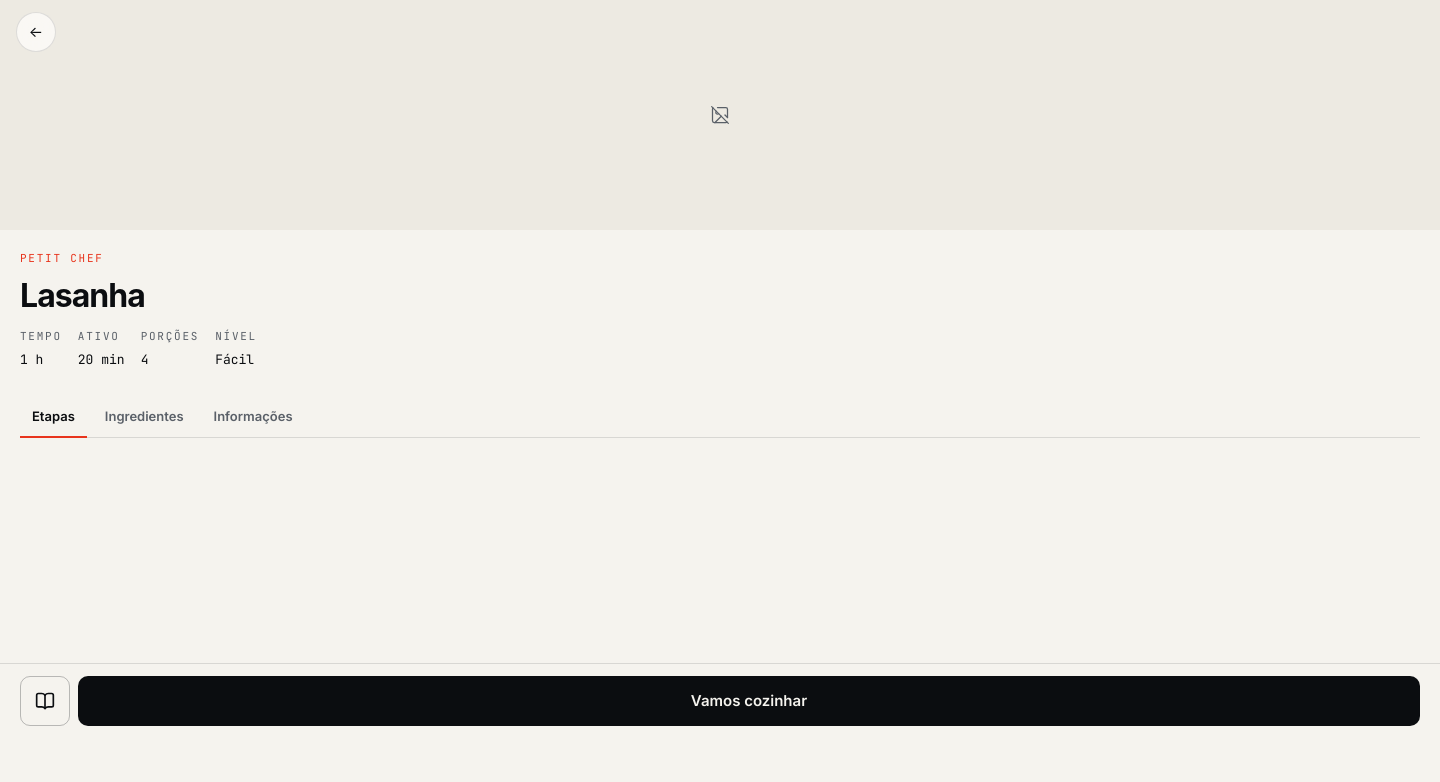
Test case: RecipeScreen — porções › rescales mass and volume lines when the serving count changes
Click the tab "Ingredientes".
click(144, 417)  # box [93, 397, 196, 438]
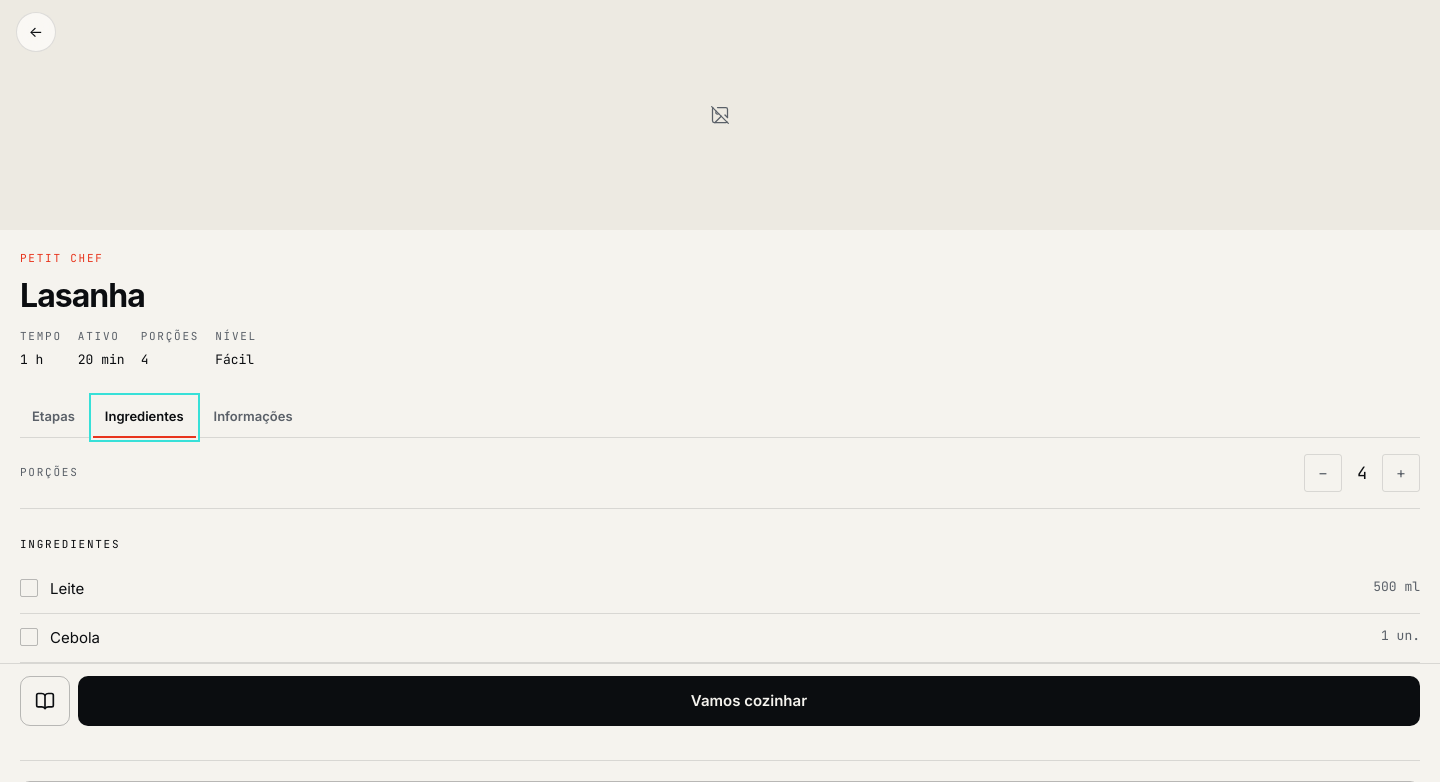
Expected: the button "✓ Leite 500 ml" is shown, [20, 577, 1420, 601]
Click the button named "Mais porções".
click(1401, 473)  # box [1382, 454, 1420, 492]
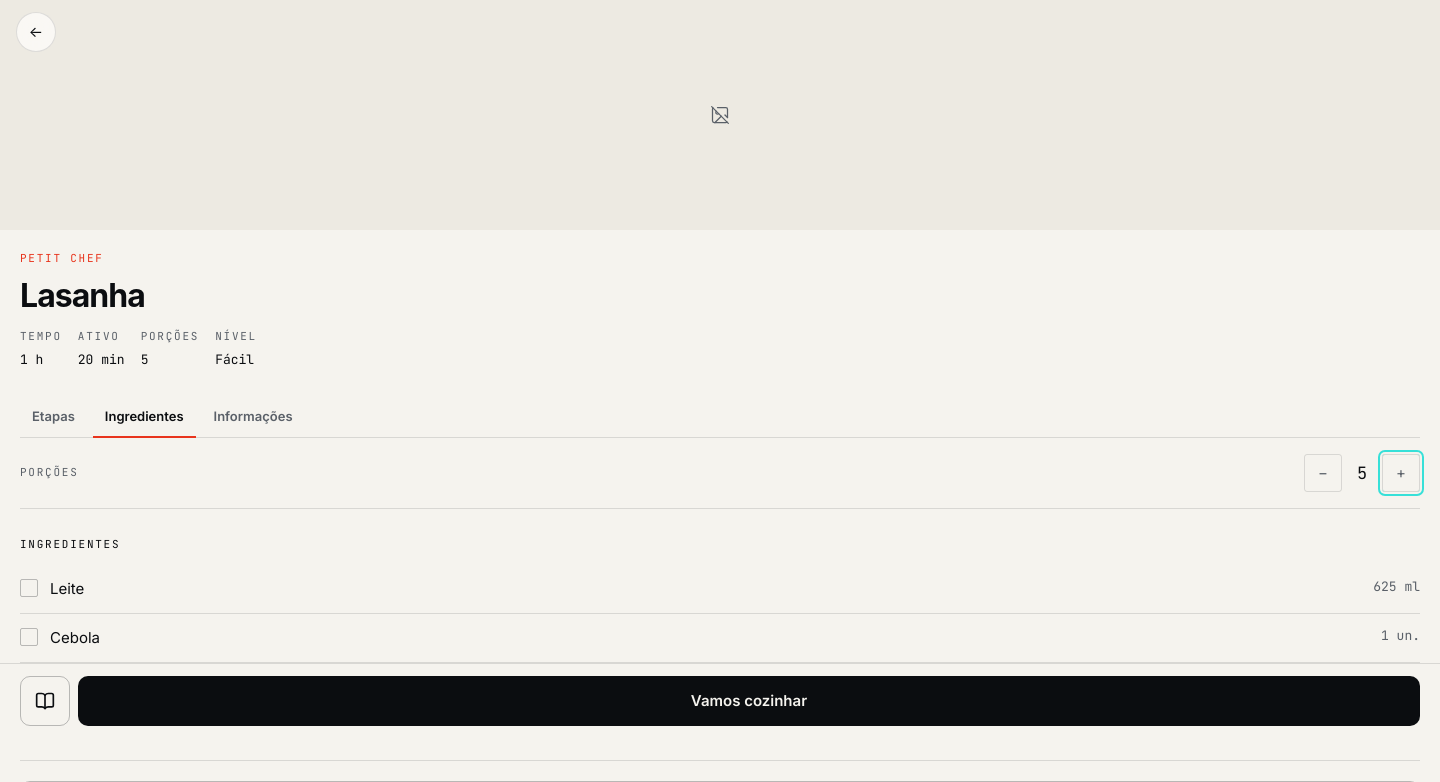
Click the button named "Mais porções".
click(1401, 473)  # box [1382, 454, 1420, 492]
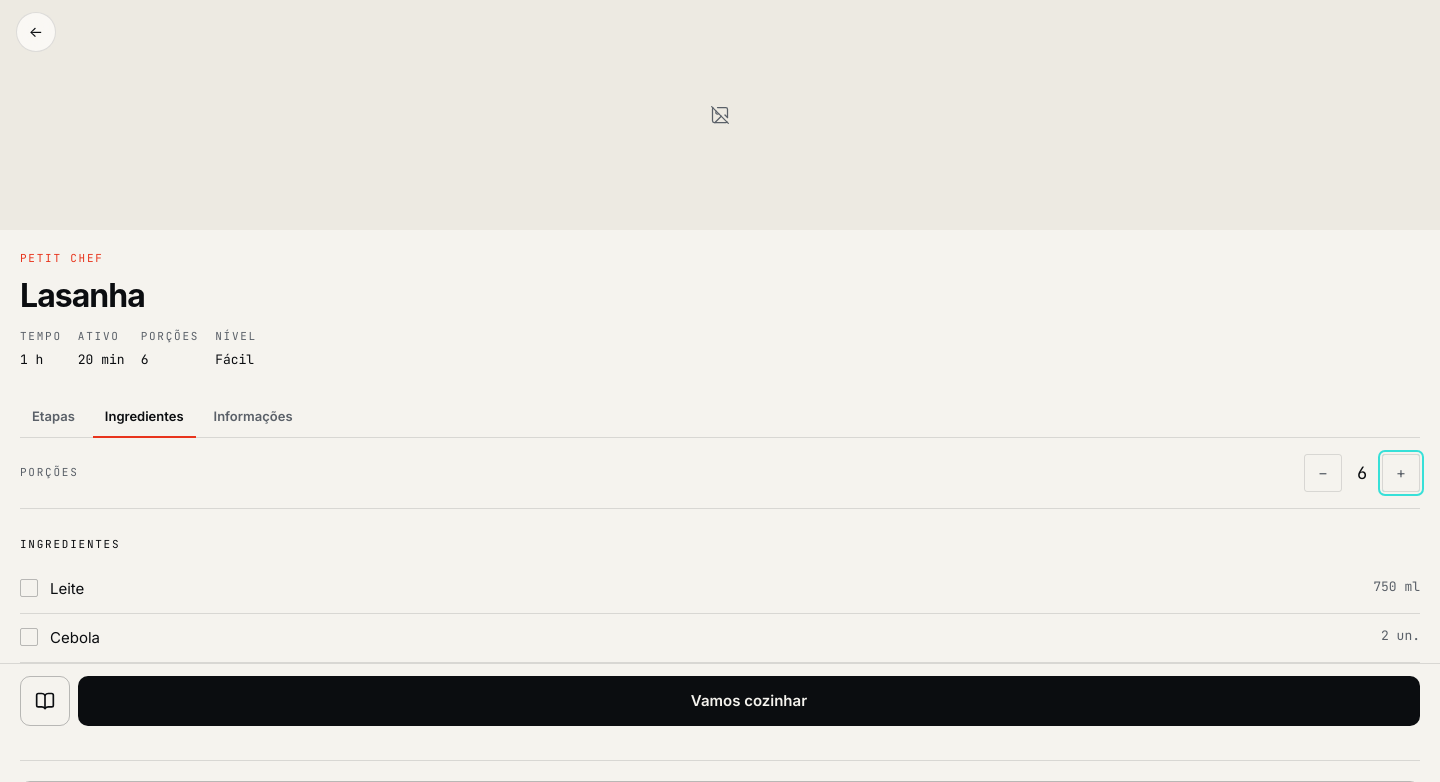
Expected: the text "6" next to "20 min" is shown, [141, 351, 148, 368]
Expected: the button "✓ Leite 750 ml" is shown, [20, 577, 1420, 601]
